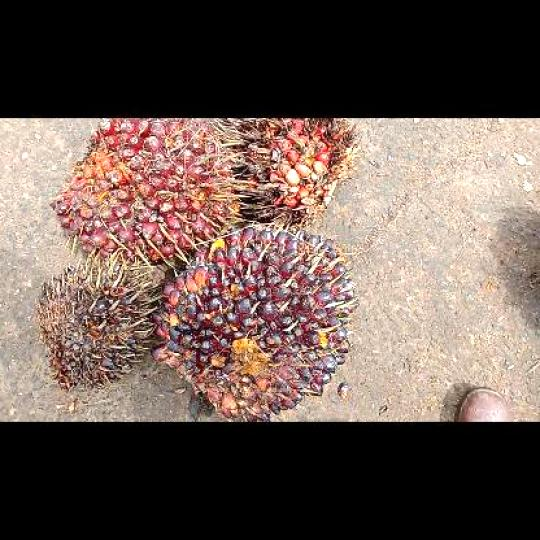kurang masak: (150, 223, 361, 421)
masak: (48, 119, 235, 265)
terlalu masak: (215, 119, 361, 234)
